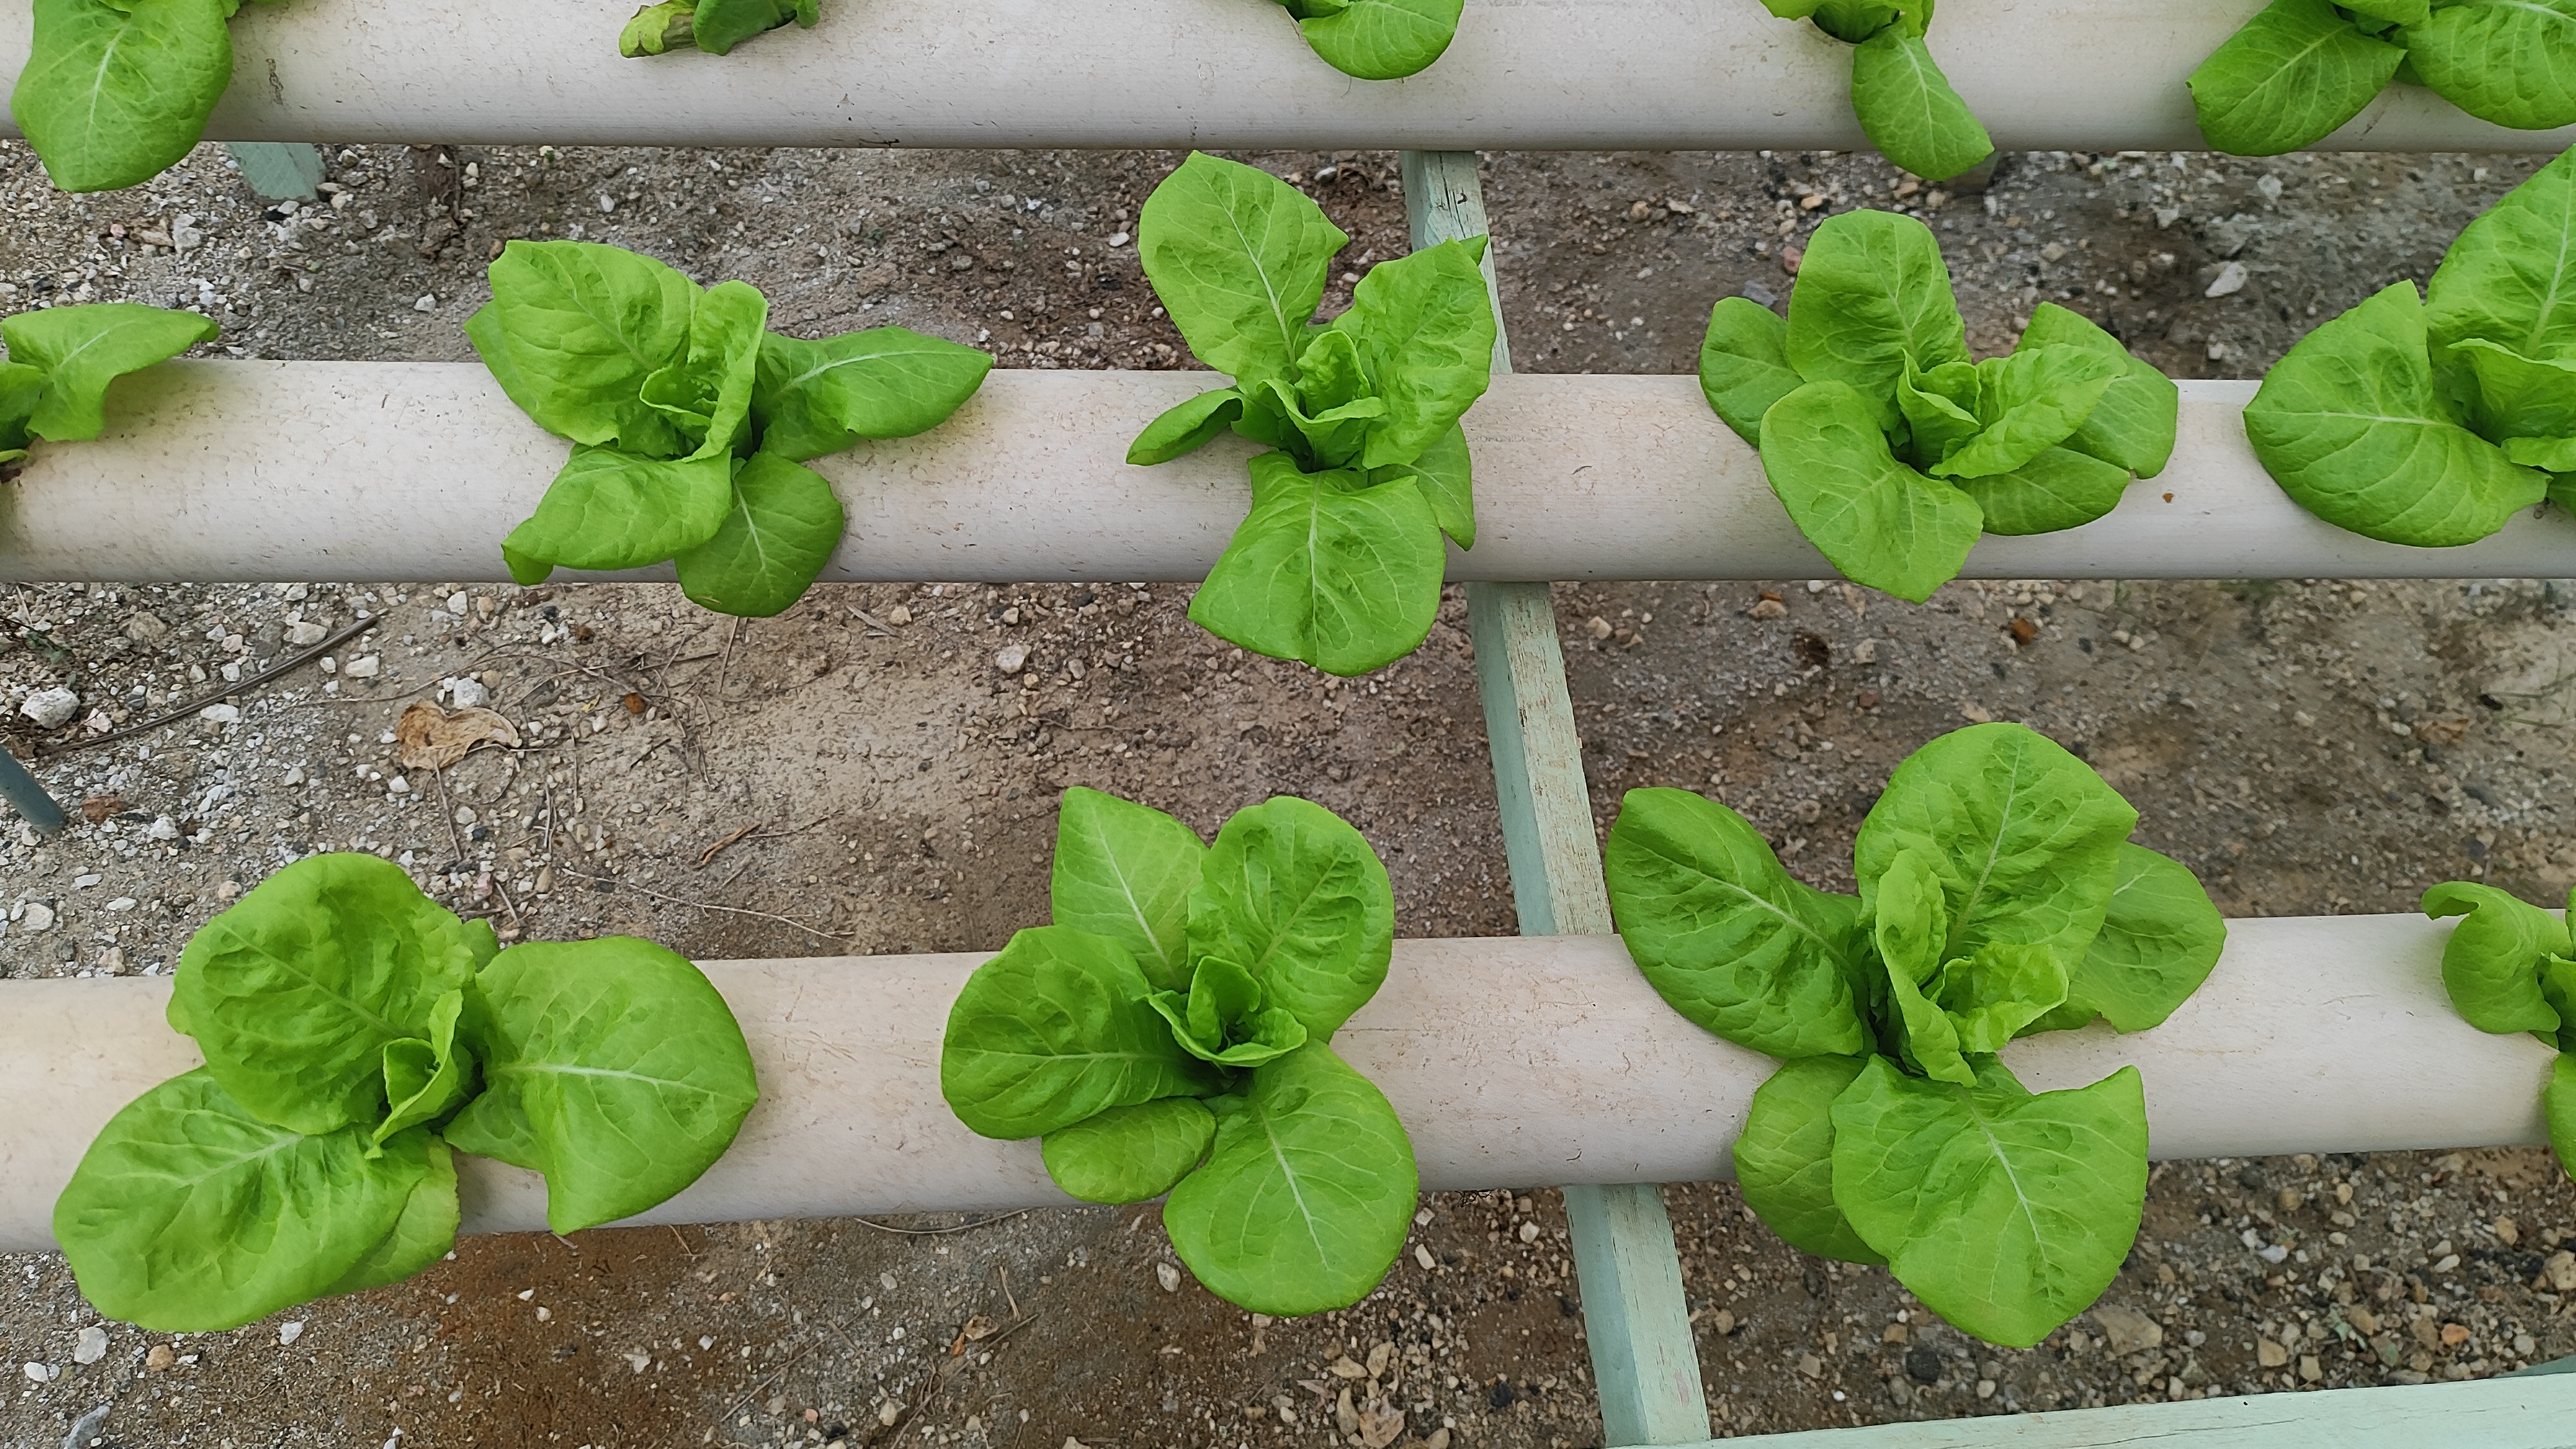muda: (1601, 674, 2210, 1346), (62, 812, 759, 1366), (446, 189, 1017, 660), (945, 763, 1424, 1323), (1076, 138, 1546, 674), (1720, 189, 2181, 616), (2227, 113, 2576, 561), (2365, 837, 2576, 1171), (0, 244, 232, 497), (0, 0, 265, 207)
